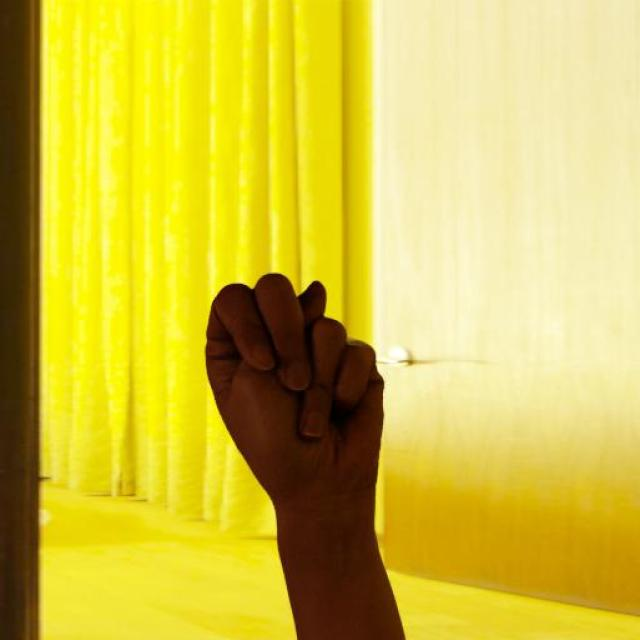N: (200, 270, 389, 512)
